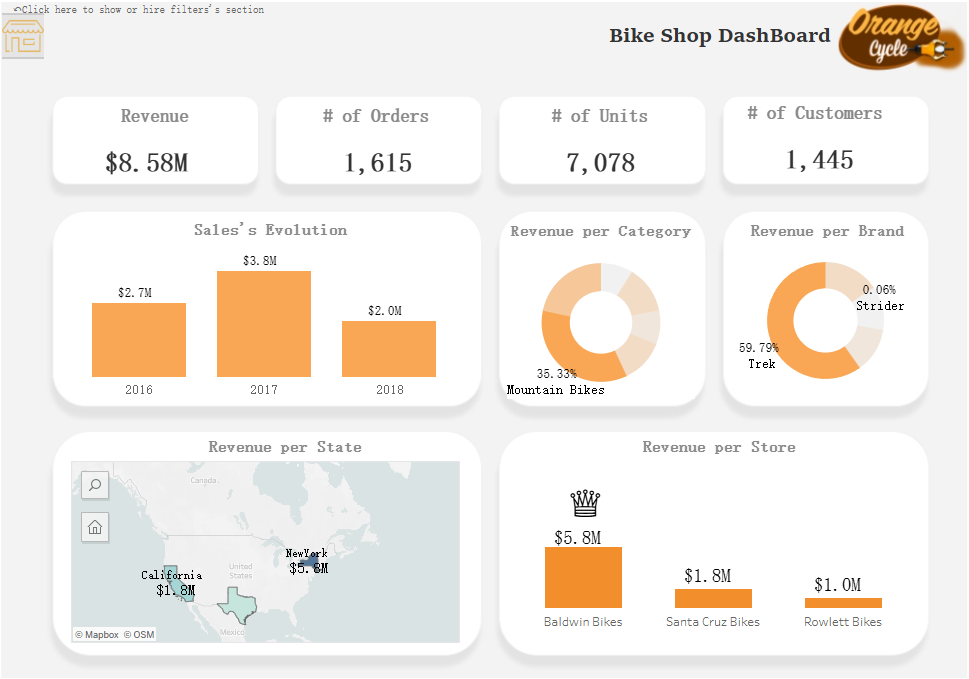

The dashboard page shown, as its layout file describes it:
{"tool":"tableau","page":{"name":"Dashboard 1","canvas":[1000,700],"ordinal":0},"visuals":[{"type":"image","param":"Image/canvas-gris.png","box":[8,8,984,684]},{"type":"text","box":[29,13,264,11]},{"type":"dashboard-object","box":[18,23,42,46]},{"type":"text","box":[600,25,247,42]},{"type":"filter","title":"# Customers","param":"[federated.1cahsle01mf6ul16q88dd1yeb68a].[none:Calculation_579838487095468032:ok","box":[65,29,134,37]},{"type":"filter","title":"Revenue per Category","param":"[federated.1cahsle01mf6ul16q88dd1yeb68a].[none:category_name:nk]","box":[199,29,204,37]},{"type":"filter","title":"Sale Per State","param":"[federated.1cahsle01mf6ul16q88dd1yeb68a].[none:Calculation_579838487110369286:nk","box":[403,29,168,37]},{"type":"worksheet","title":"Revenue","mark":"Automatic","box":[99,112,155,80]},{"type":"worksheet","title":"# Orders","mark":"Automatic","box":[327,112,149,80]},{"type":"worksheet","title":"# Product","mark":"Automatic","box":[547,112,155,80]},{"type":"worksheet","title":"# Customers","mark":"Automatic","box":[758,113,170,73]},{"type":"text","box":[210,224,167,30]},{"type":"text","box":[748,225,190,30]},{"type":"text","box":[526,226,182,30]},{"type":"worksheet","title":"Revenue per Brands","mark":"Pie","rows":["Calculation_579838487116570645","Calculation_579838487116570645"],"box":[755,252,173,157]},{"type":"worksheet","title":"Sale | Monthly","mark":"Area","rows":["revenue","revenue"],"cols":["order_date"],"box":[88,254,384,1]},{"type":"worksheet","title":"Sale | Yearly","mark":"Bar","rows":["revenue"],"cols":["Calculation_579838487095468032"],"box":[88,255,384,156]},{"type":"worksheet","title":"Revenue per Category","mark":"Pie","rows":["Calculation_579838487116570645","Calculation_579838487116570645"],"box":[523,256,188,153]},{"type":"text","box":[209,442,185,28]},{"type":"text","box":[659,442,180,28]},{"type":"worksheet","title":"Sale Per State","mark":"Automatic","box":[87,471,389,182]},{"type":"worksheet","title":"Sheet 10","mark":"Automatic","rows":["revenue"],"cols":["store_name"],"box":[534,490,390,168]}]}

Visuals, with their boxes in screenshot pixels (x1, y1, x2, y2), scaled from the page's 1000x700 canvas onto the 969x679 screenshot:
image: box(8, 8, 961, 671)
text: box(28, 13, 284, 23)
dashboard-object: box(17, 22, 58, 67)
text: box(581, 24, 821, 65)
"# Customers" filter: box(63, 28, 193, 64)
"Revenue per Category" filter: box(193, 28, 391, 64)
"Sale Per State" filter: box(391, 28, 553, 64)
"Revenue" worksheet: box(96, 109, 246, 186)
"# Orders" worksheet: box(317, 109, 461, 186)
"# Product" worksheet: box(530, 109, 680, 186)
"# Customers" worksheet: box(735, 110, 899, 180)
text: box(203, 217, 365, 246)
text: box(725, 218, 909, 247)
text: box(510, 219, 686, 248)
"Revenue per Brands" worksheet (Pie marks): box(732, 244, 899, 397)
"Sale | Monthly" worksheet (Area marks): box(85, 246, 457, 247)
"Sale | Yearly" worksheet (Bar marks): box(85, 247, 457, 399)
"Revenue per Category" worksheet (Pie marks): box(507, 248, 689, 397)
text: box(203, 429, 382, 456)
text: box(639, 429, 813, 456)
"Sale Per State" worksheet: box(84, 457, 461, 633)
"Sheet 10" worksheet: box(517, 475, 895, 638)
